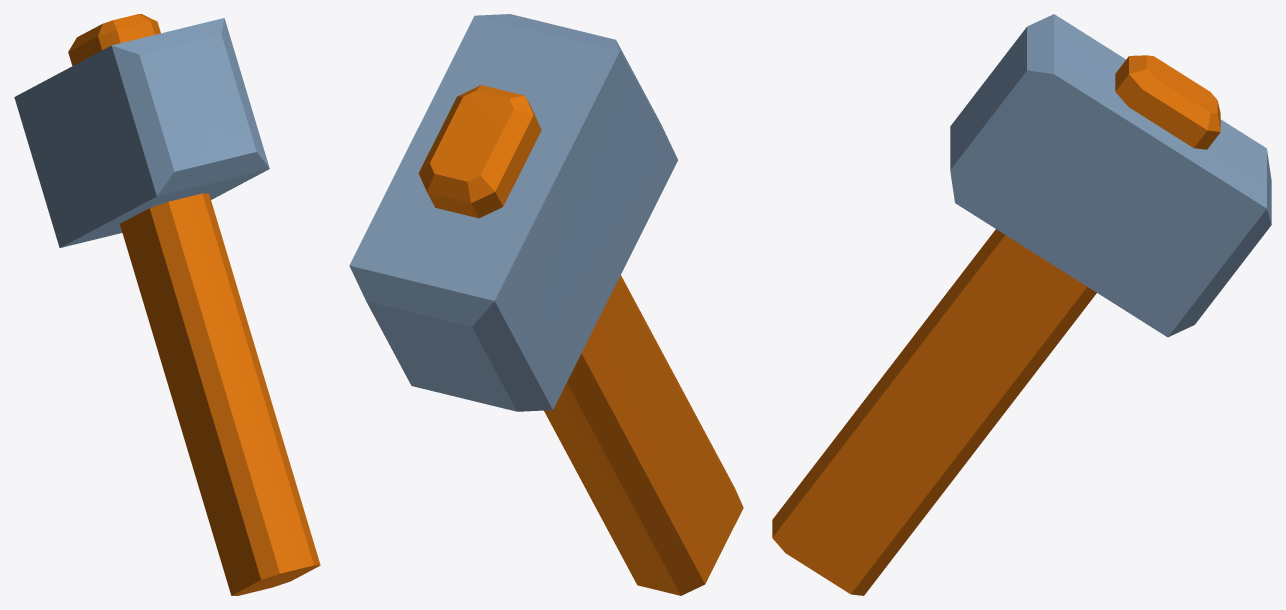
Rendered from anim_building.fbx.
3 renders of one model, left to right at view 1: azimuth 30°, elevation 25°; view 2: azimuth 150°, elevation 25°; view 3: azimuth 270°, elevation 25°, orthographic. The views are drawn at different scales.
Parts seen in each view (by area): view 1: anim_building; view 2: anim_building; view 3: anim_building.
Part boxes in pixels (left/top/right/bottom): anim_building: left=14, top=14, right=320, bottom=595; anim_building: left=349, top=14, right=743, bottom=595; anim_building: left=772, top=14, right=1271, bottom=595.
Bounding box in the file's own units: 110 × 461 × 384.
